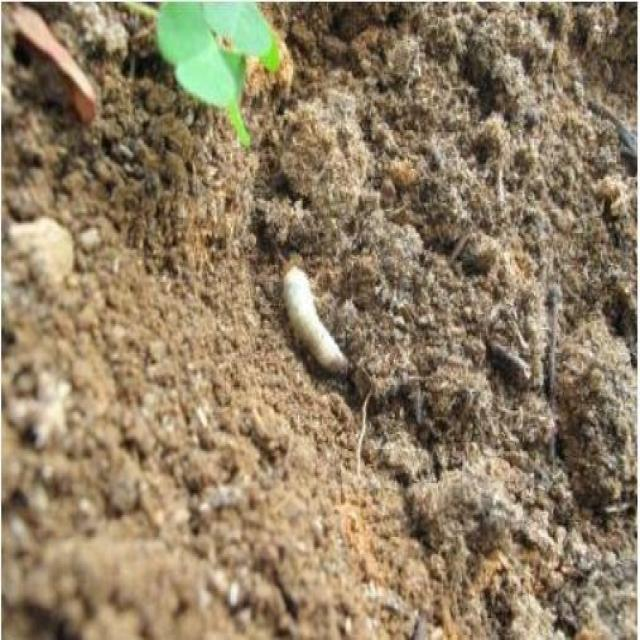grub: (274, 255, 355, 373)
